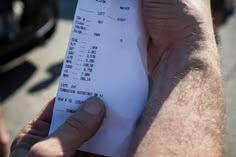receipt-in-hand: (50, 0, 147, 156)
